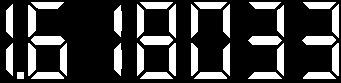dot: (15, 71, 25, 79)
eight: (137, 1, 175, 78)
one: (112, 4, 122, 76), (6, 3, 13, 77)
six: (27, 2, 67, 79)
three: (302, 2, 341, 79), (248, 1, 284, 79)
zero: (191, 1, 230, 79)
